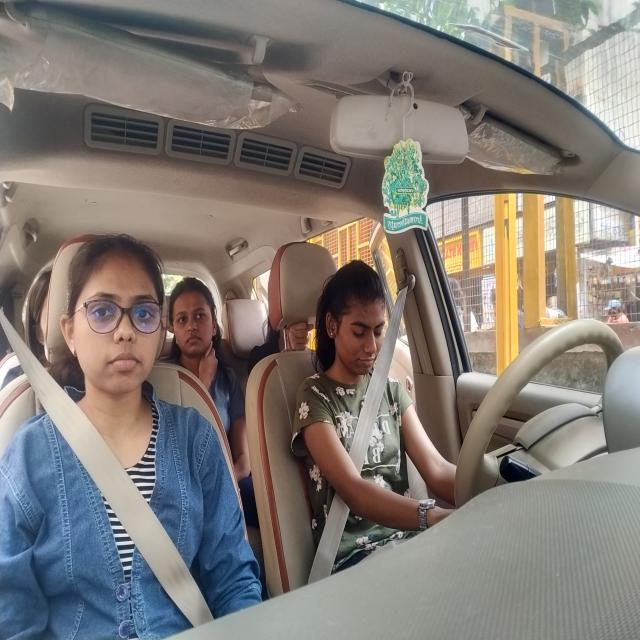drowsy: (315, 251, 394, 413)
person: (46, 226, 168, 424), (163, 272, 224, 388), (14, 260, 63, 374)
